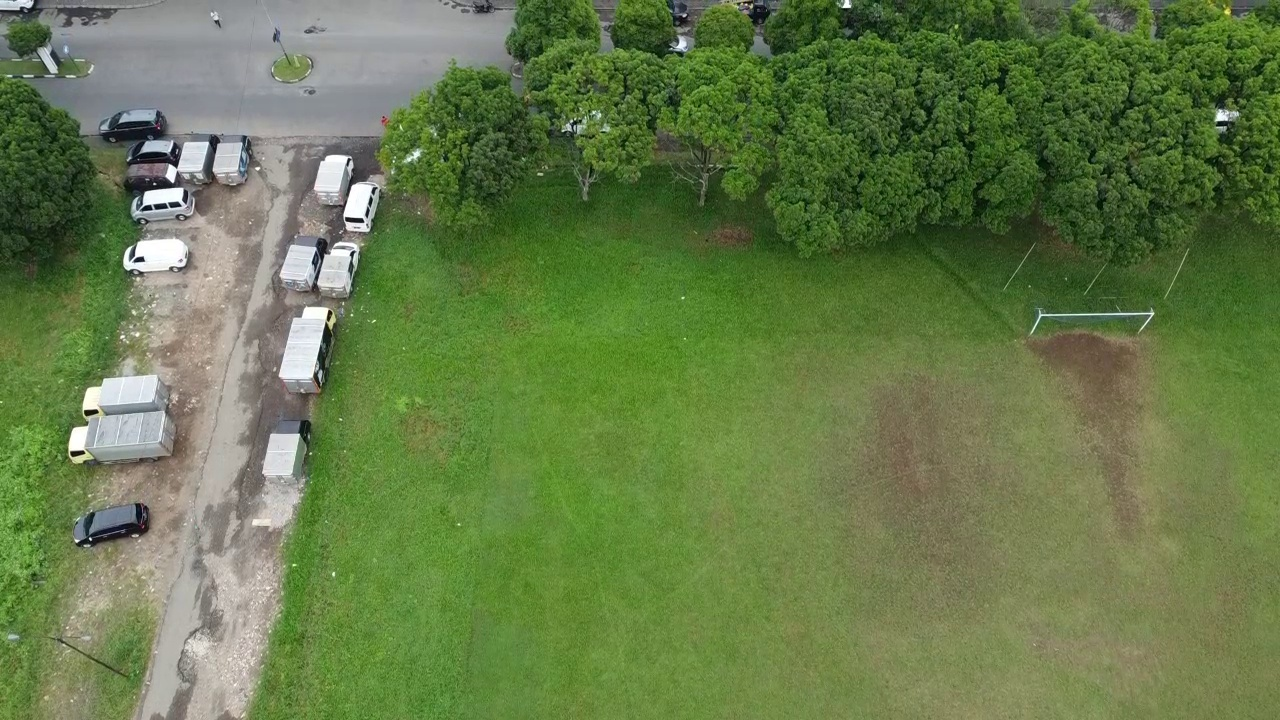mobil: (70, 496, 159, 548), (95, 101, 171, 146), (339, 172, 387, 237), (120, 239, 194, 277), (127, 187, 199, 225), (125, 161, 180, 198), (130, 137, 184, 172)
